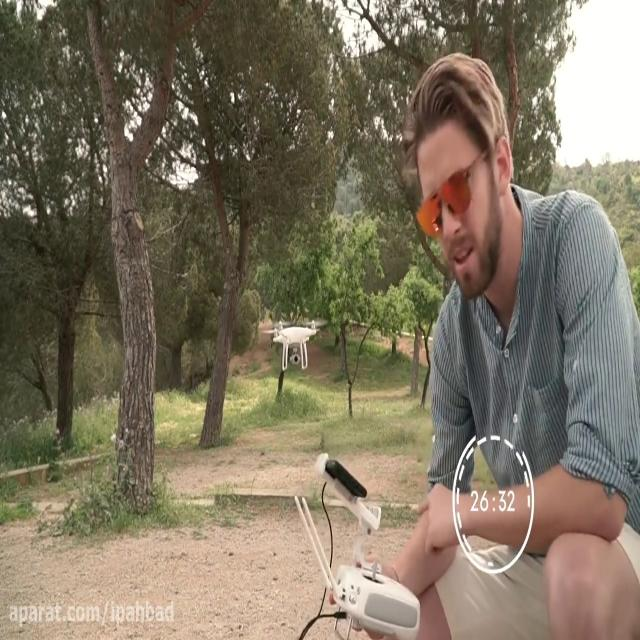drone: (261, 314, 330, 372)
